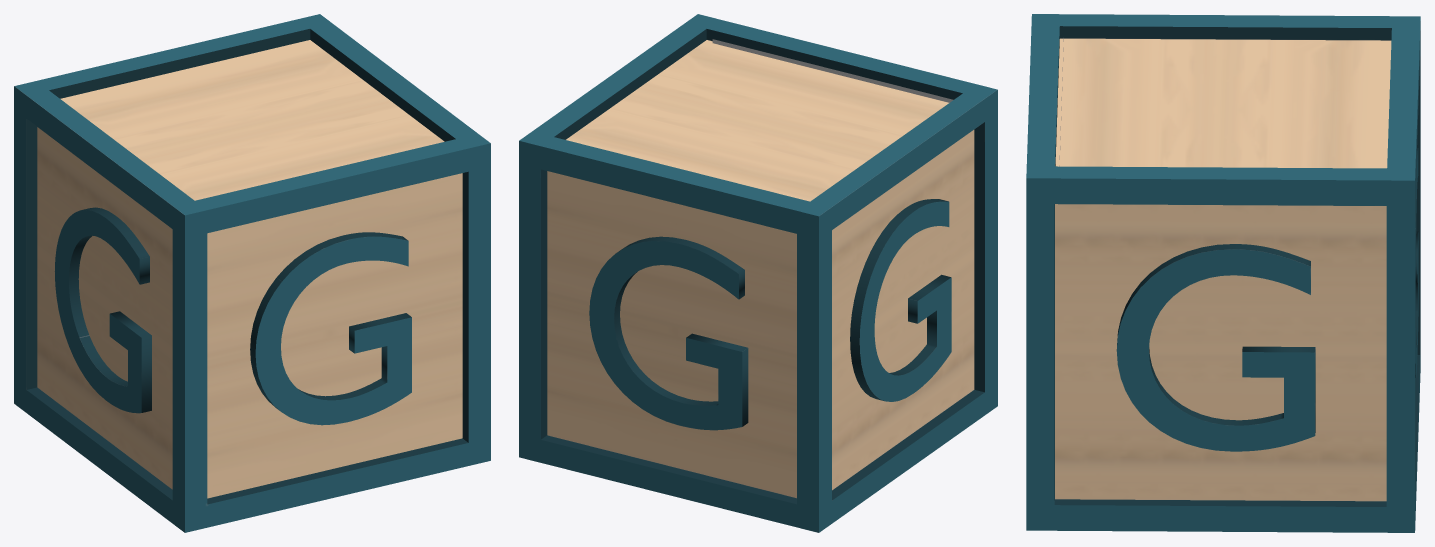
3 renders of one model, left to right at view 1: azimuth 30°, elevation 25°; view 2: azimuth 150°, elevation 25°; view 3: azimuth 270°, elevation 25°, orthographic. The views are drawn at different scales.
Visible parts, largest first — view 1: Cube.022; view 2: Cube.022; view 3: Cube.022.
Boxes of the visible parts, <box> form: Cube.022: <box>14,14,490,532</box>; Cube.022: <box>519,14,997,532</box>; Cube.022: <box>1026,14,1420,532</box>.
Bounding box in the file's own units: 74.61 × 73.57 × 74.61.
Materials: 1 (1 with a texture image).
